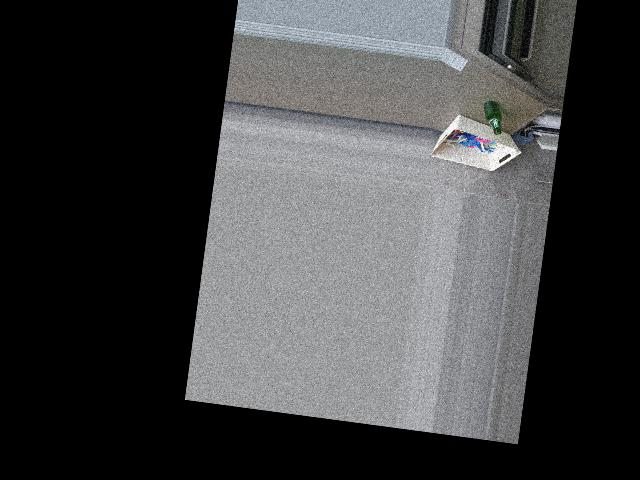beer: (480, 99, 505, 135)
